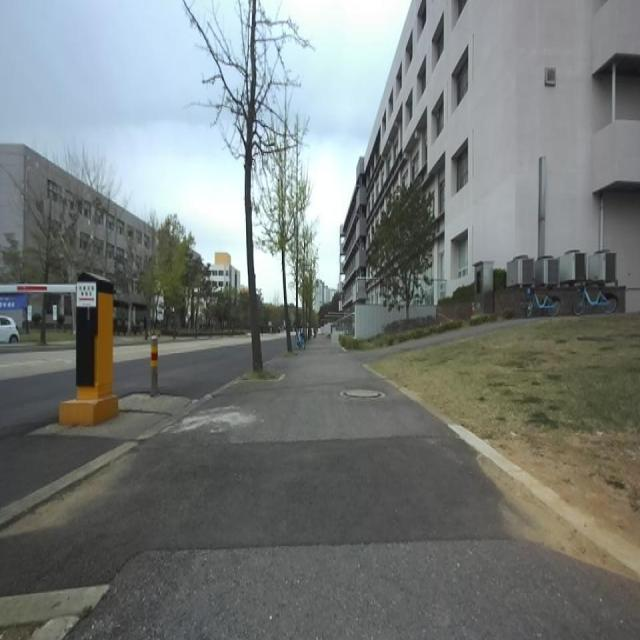sidewalk: (0, 340, 640, 639), (478, 453, 640, 581), (0, 442, 137, 529), (1, 442, 135, 528), (30, 616, 78, 640), (136, 418, 175, 440)
